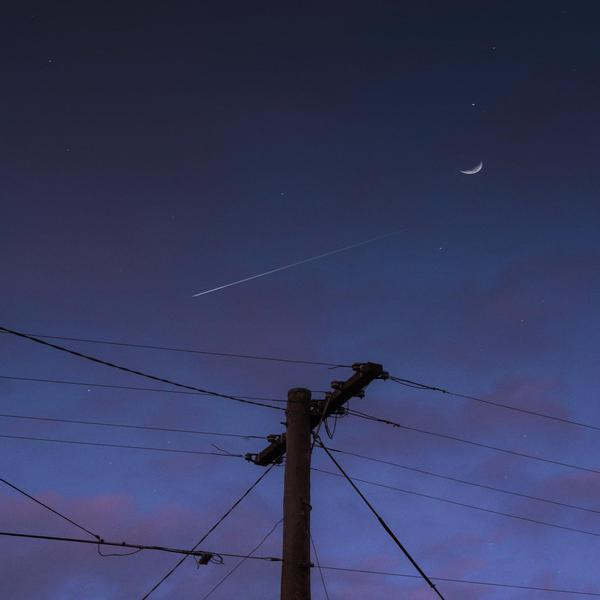utility_pole: (238, 351, 395, 528)
